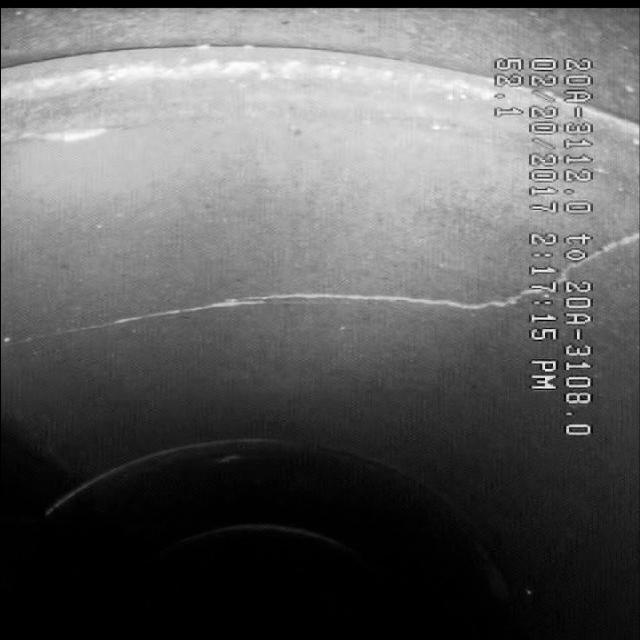Crack: (71, 264, 499, 354)
